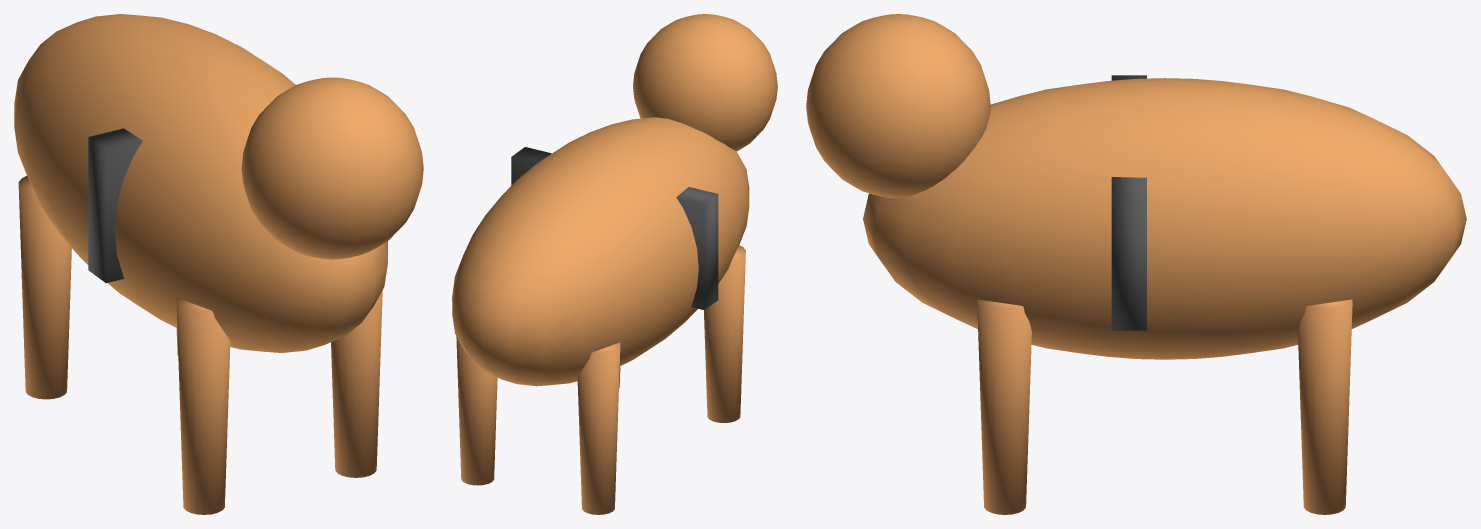
File: tiger.glb
The picture shows the model from 3 angles, left to right: view 1: azimuth 30°, elevation 25°; view 2: azimuth 150°, elevation 25°; view 3: azimuth 270°, elevation 25°; orthographic projection. The views are drawn at different scales.
Visible parts, largest first — view 1: body, head, leg_-0.25_0.45, leg_-0.25_-0.45, leg_0.25_0.45, stripe; view 2: body, head, leg_-0.25_-0.45, leg_-0.25_0.45, leg_0.25_-0.45, stripe; view 3: body, head, leg_0.25_0.45, leg_0.25_-0.45, stripe.
Part boxes in pixels (left/top/right/bottom): body: left=14, top=14, right=387, bottom=352; head: left=241, top=77, right=423, bottom=259; leg_-0.25_0.45: left=176, top=298, right=230, bottom=514; leg_-0.25_-0.45: left=18, top=175, right=71, bottom=399; leg_0.25_0.45: left=331, top=290, right=382, bottom=477; stripe: left=88, top=128, right=142, bottom=282; body: left=452, top=117, right=749, bottom=386; head: left=633, top=14, right=777, bottom=151; leg_-0.25_-0.45: left=577, top=342, right=620, bottom=514; leg_-0.25_0.45: left=704, top=245, right=745, bottom=422; leg_0.25_-0.45: left=456, top=336, right=497, bottom=485; stripe: left=511, top=147, right=718, bottom=310; body: left=863, top=78, right=1466, bottom=359; head: left=806, top=14, right=990, bottom=197; leg_0.25_0.45: left=977, top=299, right=1031, bottom=514; leg_0.25_-0.45: left=1298, top=299, right=1352, bottom=514; stripe: left=1111, top=75, right=1146, bottom=330.
Size of the model in its own units: 0.8 by 1.38 by 1.86.
